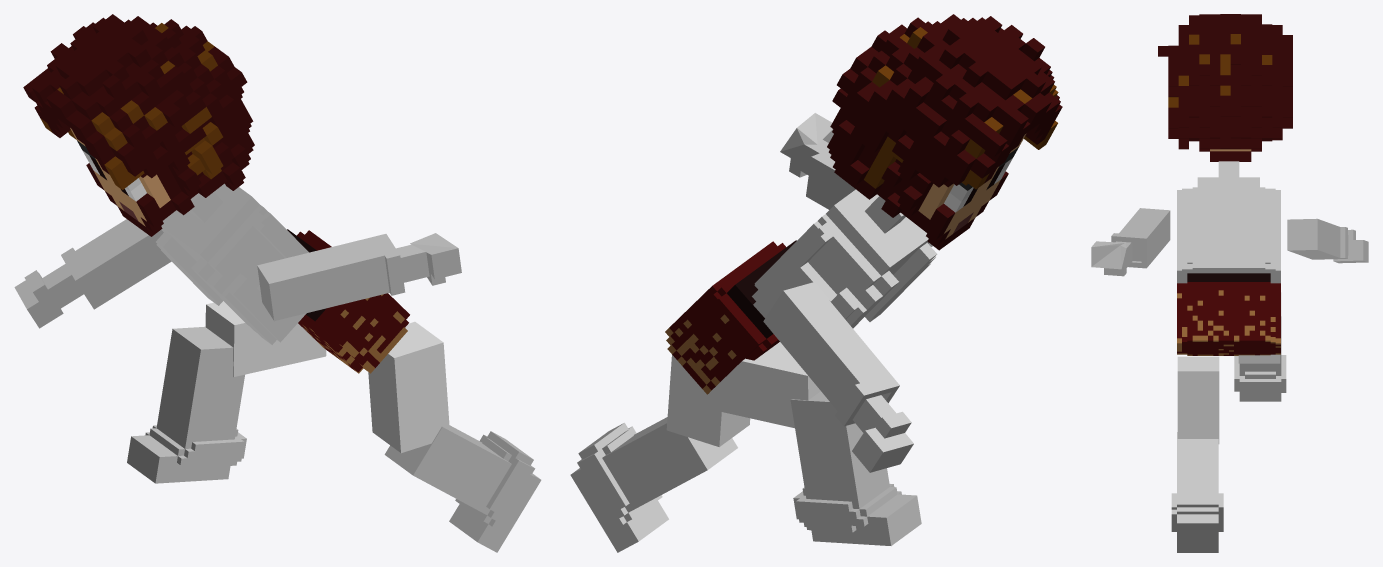
The model's file is POS6.fbx.
3 views of the same model, side by side, from view 1: azimuth 30°, elevation 25°; view 2: azimuth 150°, elevation 25°; view 3: azimuth 270°, elevation 25° (orthographic). The views are drawn at different scales.
Parts seen in each view (by area): view 1: POS6; view 2: POS6; view 3: POS6.
Boxes of the visible parts, x1,y1,x2,y2 form: POS6: (14,14,541,552); POS6: (570,14,1062,552); POS6: (1091,14,1368,552).
Bounding box in the file's own units: 155 × 190 × 113.
